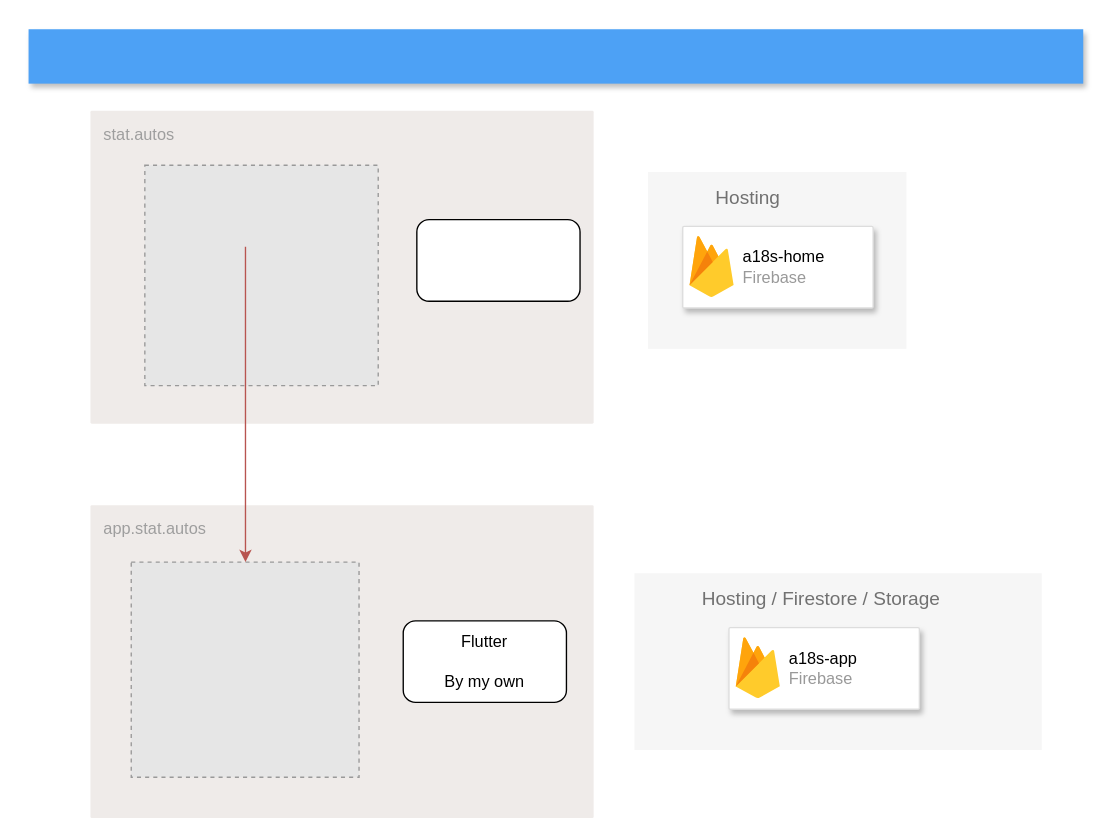
This 1115x840 diagram has some shape labels left out. Grey dashed boxes stand in for pictures. Each missing label, with the centre of its shape:
Hugo Theme: spectral: (497,259)
Routing Main pages: (556,57)
